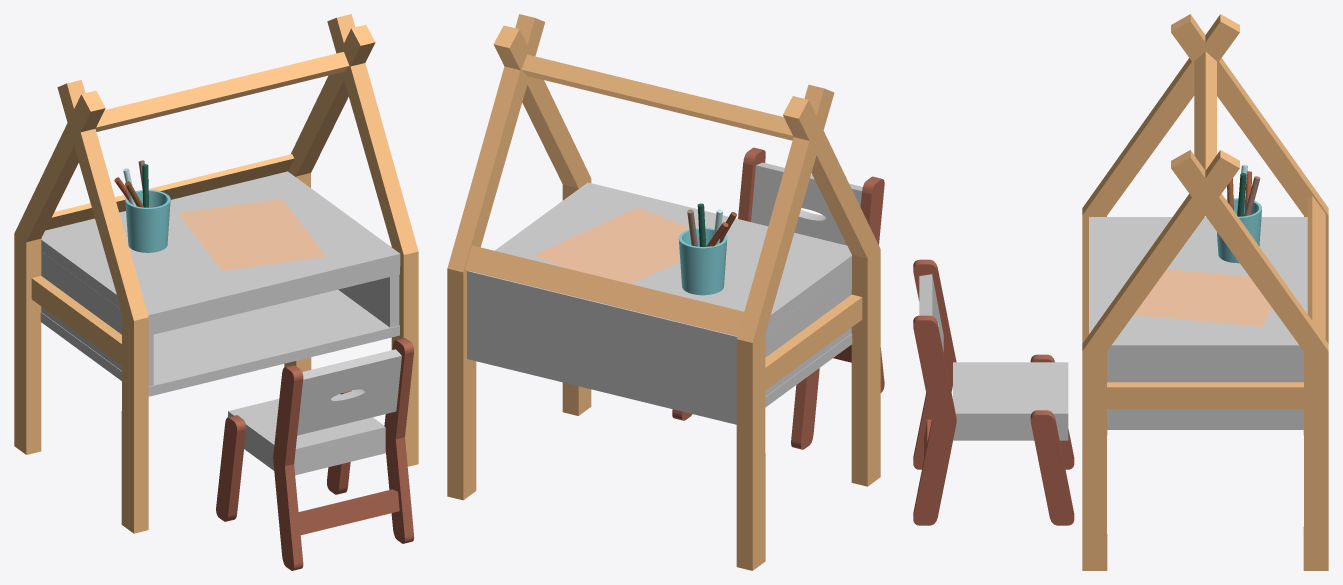
Rendered from Furn2_worktable_color1_joined.fbx.
The picture shows the model from 3 angles, left to right: view 1: azimuth 30°, elevation 25°; view 2: azimuth 150°, elevation 25°; view 3: azimuth 270°, elevation 25°; orthographic projection. The views are drawn at different scales.
Parts seen in each view (by area): view 1: Куб.006; view 2: Куб.006; view 3: Куб.006.
Boxes of the visible parts, box(x1,y1,x2,y2) form: Куб.006: box(14, 14, 418, 570); Куб.006: box(447, 14, 884, 570); Куб.006: box(913, 14, 1328, 570).
Bounding box in the file's own units: 204 × 274 × 249.
